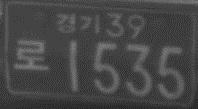1: (59, 38, 89, 92)
3: (124, 42, 153, 96), (105, 11, 124, 38)
5: (156, 44, 186, 101), (92, 40, 120, 95)
9: (126, 13, 145, 40)
경기_O: (55, 12, 102, 34)
로: (13, 38, 49, 72)
